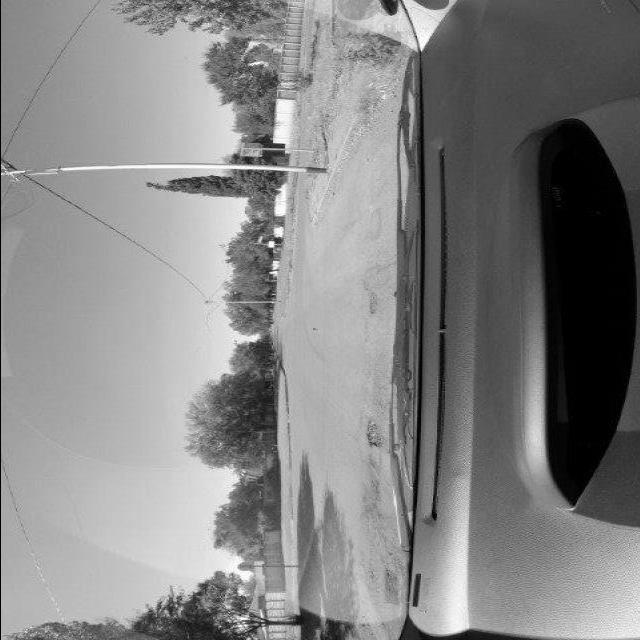jalan retak: (354, 473, 386, 528), (381, 547, 405, 571)
lubang: (358, 412, 388, 454), (359, 276, 382, 322), (381, 566, 403, 608)
